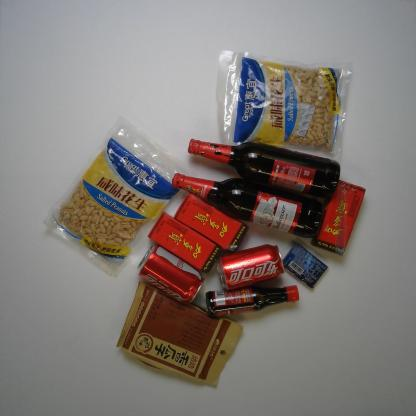Alcohol: (172, 173, 324, 239), (187, 139, 341, 199)
Dried Food: (115, 282, 244, 387)
Dried Fruit: (42, 116, 201, 278), (216, 48, 352, 160)
Drink: (147, 212, 223, 274), (174, 192, 250, 252), (311, 178, 366, 256), (137, 244, 205, 303), (215, 244, 285, 291)
Gum: (280, 242, 328, 290)
Seasoner: (205, 285, 300, 319)
